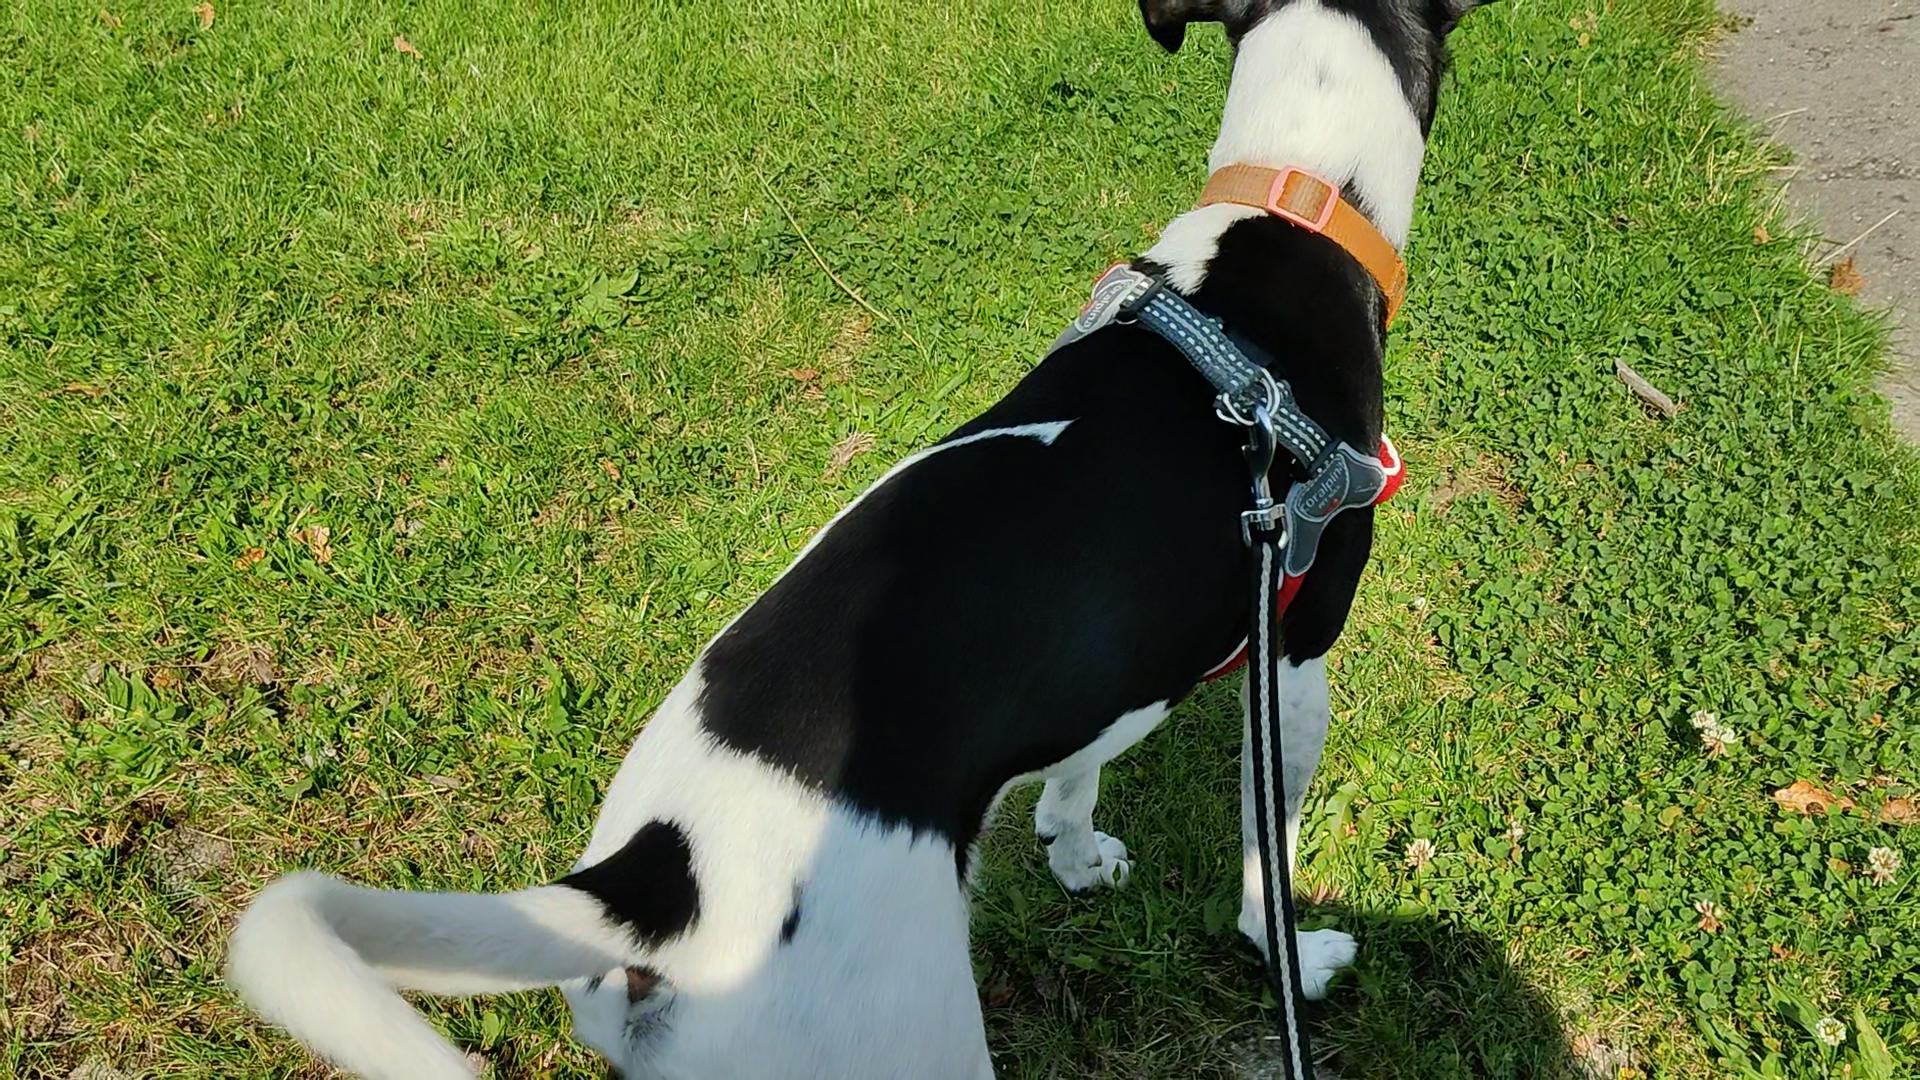Dog: (218, 0, 1498, 1079)
